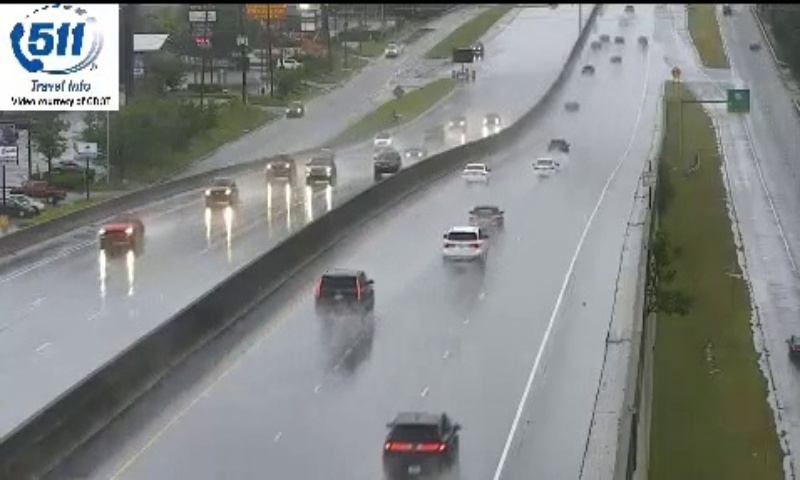car: (383, 413, 460, 476), (316, 270, 373, 316), (441, 224, 488, 260), (470, 205, 502, 230), (463, 163, 489, 184), (532, 158, 558, 177)
